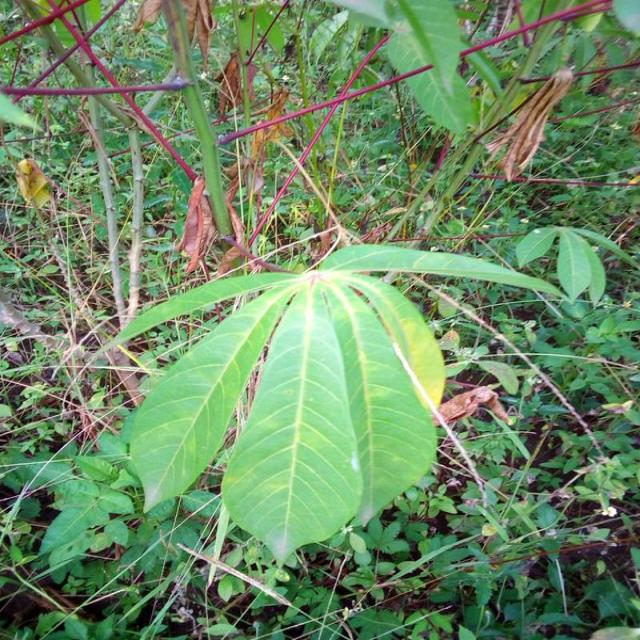cassava leaf: (124, 264, 446, 566)
